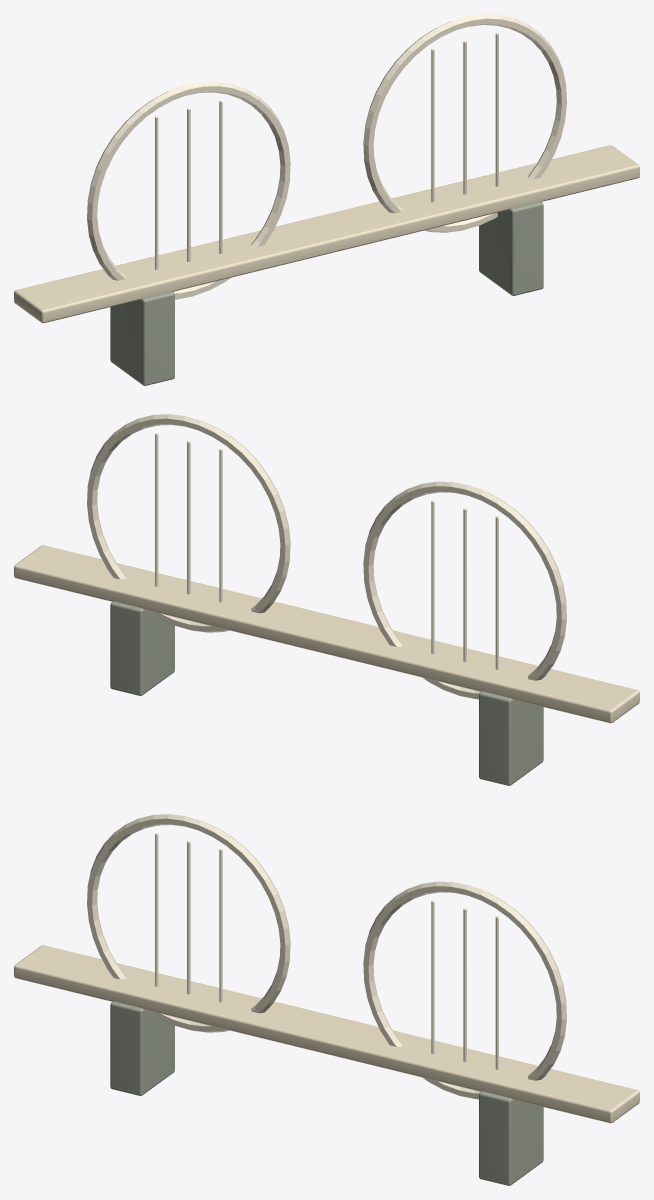
The model's file is nanjing-eye-original.glb.
3 renders of one model, top to bottom at view 1: azimuth 30°, elevation 25°; view 2: azimuth 150°, elevation 25°; view 3: azimuth 330°, elevation 25°, orthographic.
Visible parts, largest first — view 1: pedestrian deck, inclined eye.001, inclined eye, bridge foot, bridge foot.001, suspension.001, suspension.004, suspension, suspension.002, suspension.003, suspension.005; view 2: pedestrian deck, inclined eye.001, inclined eye, bridge foot, bridge foot.001, suspension.001, suspension.004, suspension, suspension.002, suspension.003, suspension.005; view 3: pedestrian deck, inclined eye, inclined eye.001, bridge foot.001, bridge foot, suspension.001, suspension.004, suspension, suspension.002, suspension.003, suspension.005.
Boxes of the visible parts, box(x1,y1,x2,y2) form: pedestrian deck: box(14, 145, 639, 323); inclined eye.001: box(363, 14, 566, 232); inclined eye: box(87, 81, 290, 299); bridge foot: box(110, 291, 174, 385); bridge foot.001: box(479, 201, 543, 295); suspension.001: box(187, 108, 190, 261); suspension.004: box(463, 41, 466, 194); suspension: box(155, 116, 158, 269); suspension.002: box(219, 100, 222, 253); suspension.003: box(431, 49, 434, 202); suspension.005: box(495, 33, 498, 186); pedestrian deck: box(14, 545, 639, 723); inclined eye.001: box(87, 414, 290, 632); inclined eye: box(363, 481, 566, 699); bridge foot: box(479, 691, 543, 785); bridge foot.001: box(110, 601, 174, 695); suspension.001: box(463, 508, 466, 661); suspension.004: box(187, 441, 190, 594); suspension: box(495, 516, 498, 669); suspension.002: box(431, 500, 434, 653); suspension.003: box(219, 449, 222, 602); suspension.005: box(155, 433, 158, 586); pedestrian deck: box(14, 945, 639, 1123); inclined eye: box(87, 814, 290, 1032); inclined eye.001: box(363, 881, 566, 1099); bridge foot.001: box(479, 1091, 543, 1185); bridge foot: box(110, 1001, 174, 1095); suspension.001: box(187, 841, 190, 994); suspension.004: box(463, 908, 466, 1061); suspension: box(155, 833, 158, 986); suspension.002: box(219, 849, 222, 1002); suspension.003: box(431, 900, 434, 1053); suspension.005: box(495, 916, 498, 1069).
Size of the model in its own units: 13 by 5.71 by 1.3.
